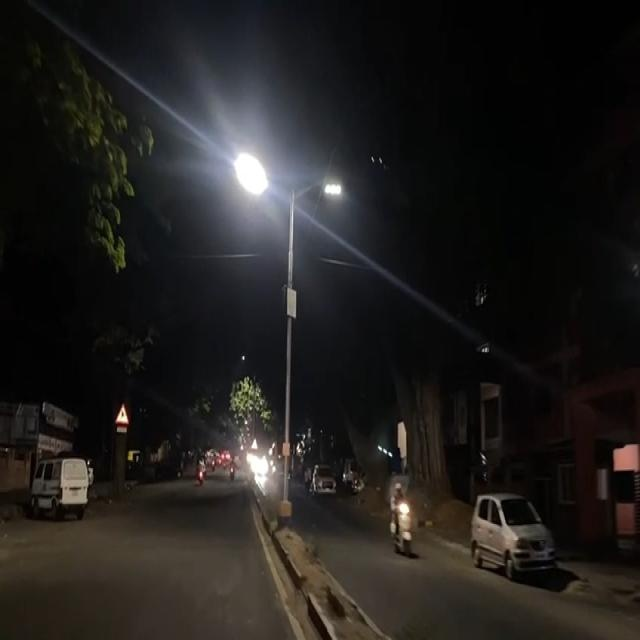bien_nguy_hiem: (115, 402, 130, 426)
